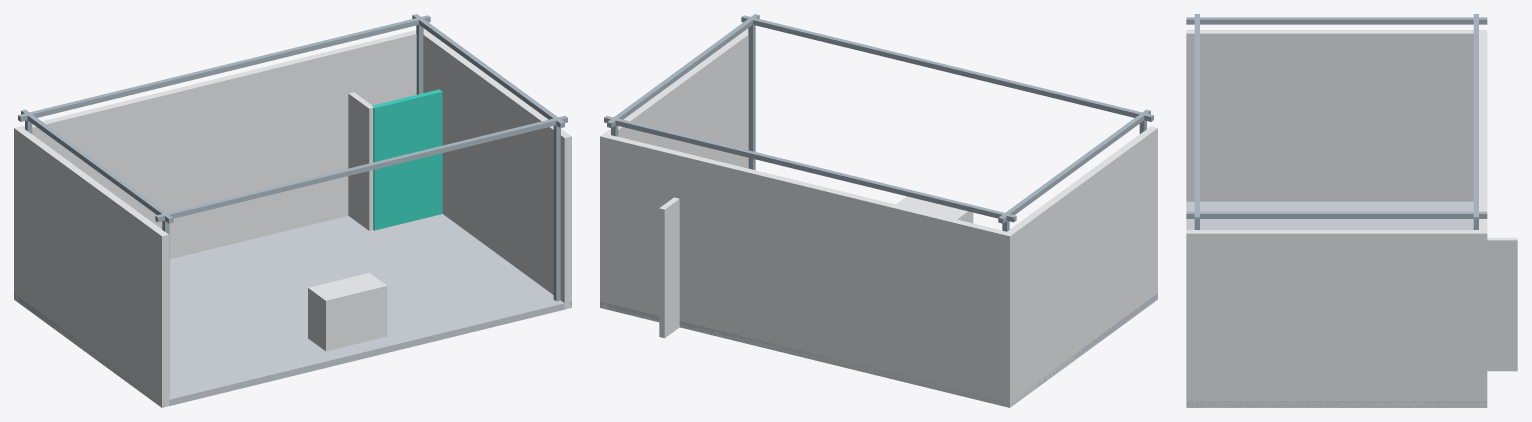
3 renders of one model, left to right at view 1: azimuth 30°, elevation 25°; view 2: azimuth 150°, elevation 25°; view 3: azimuth 270°, elevation 25°, orthographic.
Visible parts, largest first — view 1: Exhibition Booth Concept; view 2: Exhibition Booth Concept; view 3: Exhibition Booth Concept.
Part boxes in pixels (x1,y1,x2,y2): Exhibition Booth Concept: [14, 14, 571, 407]; Exhibition Booth Concept: [600, 14, 1157, 407]; Exhibition Booth Concept: [1186, 14, 1517, 407].
Bounding box in the file's own units: 8 × 3.49 × 5.51.
